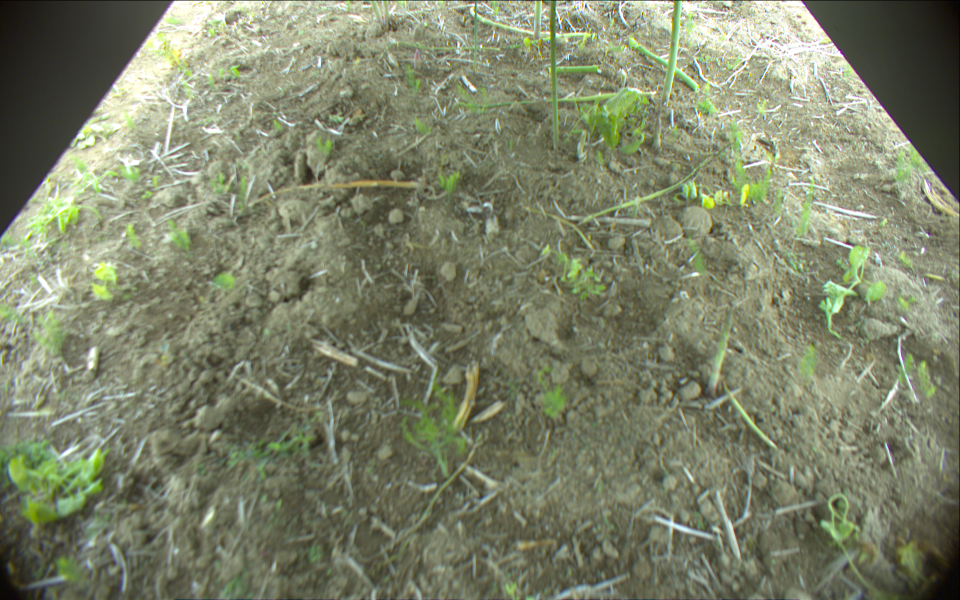aspa: (579, 142, 733, 224), (469, 1, 589, 37), (626, 37, 699, 92), (458, 92, 655, 111), (727, 386, 776, 450), (379, 42, 499, 64), (707, 304, 735, 396), (662, 1, 681, 106), (549, 1, 562, 148), (550, 64, 600, 77), (471, 1, 479, 70), (535, 1, 542, 39), (369, 1, 382, 19), (382, 1, 389, 19)
